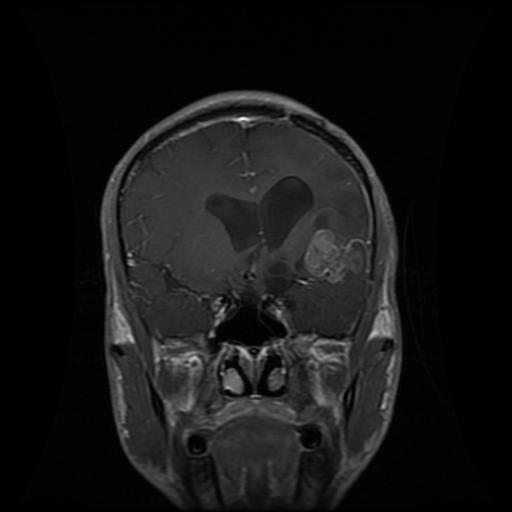Gliomia_tumour: (269, 211, 361, 293)
